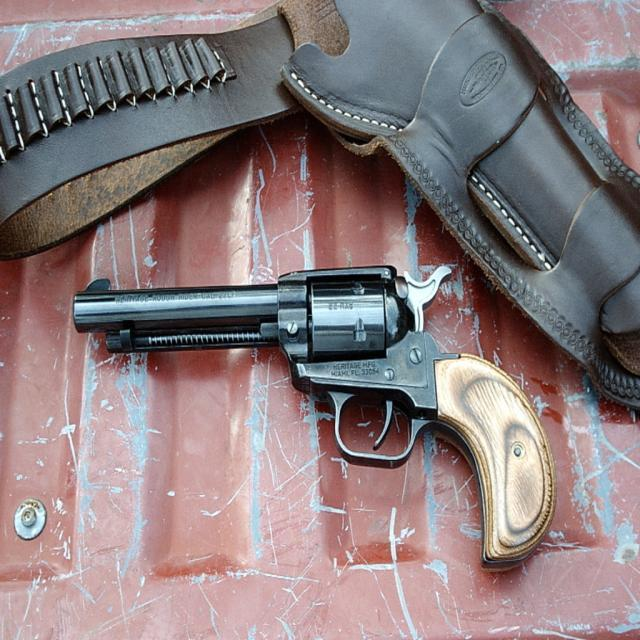Gun: (72, 266, 555, 568)
